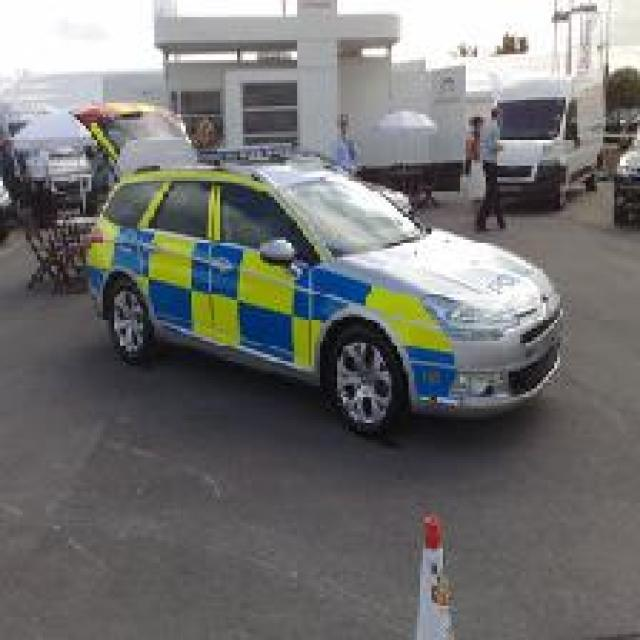emergency: (80, 156, 568, 442)
